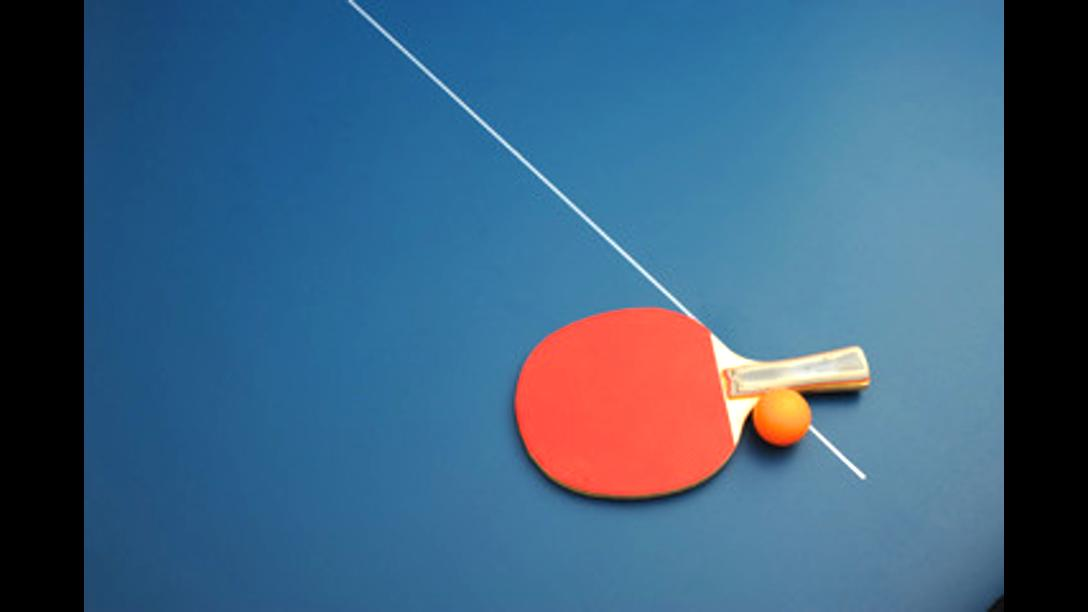Table-Tennis-Ball: (756, 388, 810, 444)
